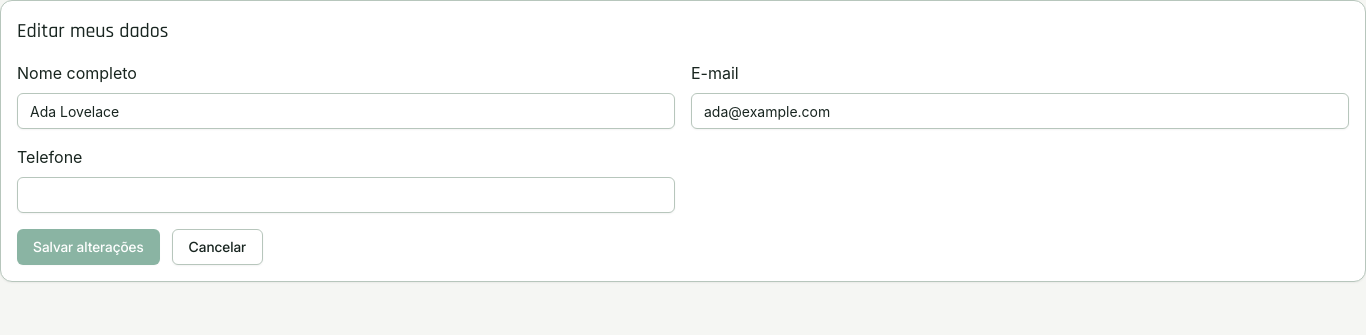
Test: ProfileContactForm › solicita senha apenas ao trocar e-mail e a limpa ao concluir
Check: the field labelled "Senha atual" is not shown
Replace the text in the field labelled "E-mail" with "ada.new@example.com" at (1020, 111), box [691,93,1349,129]
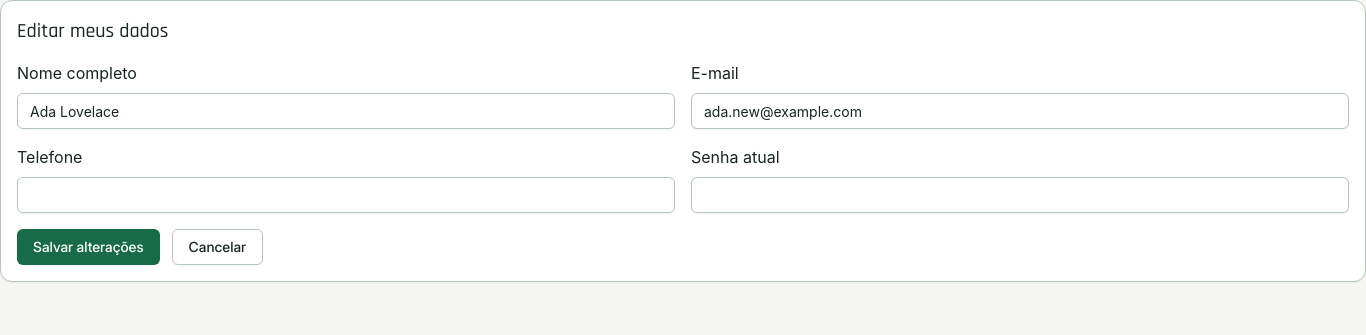
Type "transient-secret" into the password field labelled "Senha atual".
click(1020, 195); type("transient-secret")  # box [691,177,1349,213]
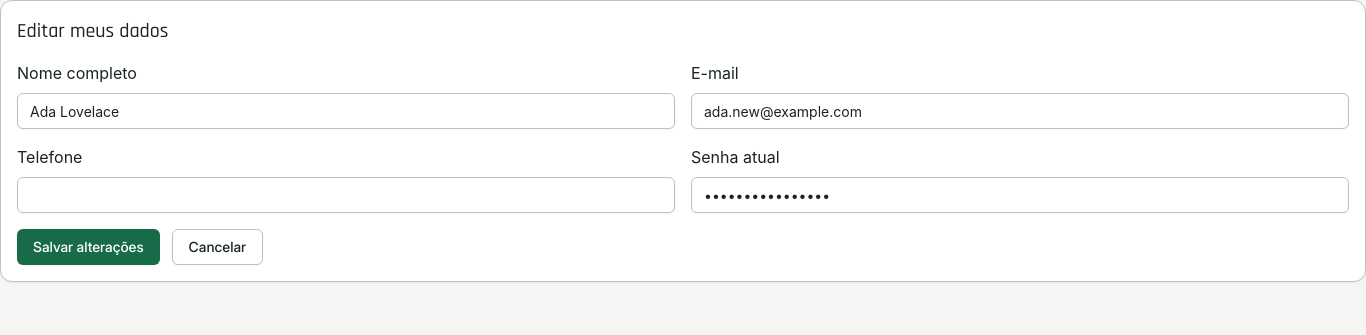
Type "555-0123" into the field labelled "Telefone".
click(346, 195); type("555-0123")  # box [17,177,675,213]
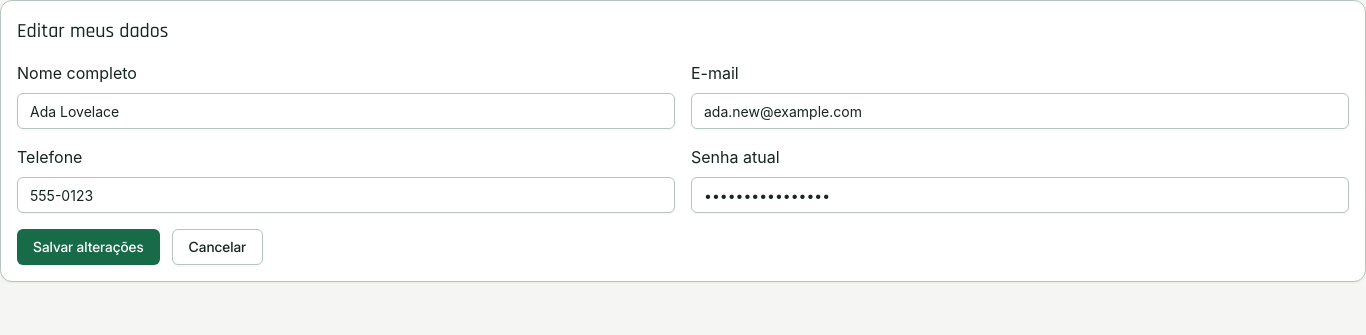
Click the button "Salvar alterações".
click(88, 247)  # box [17,229,160,265]
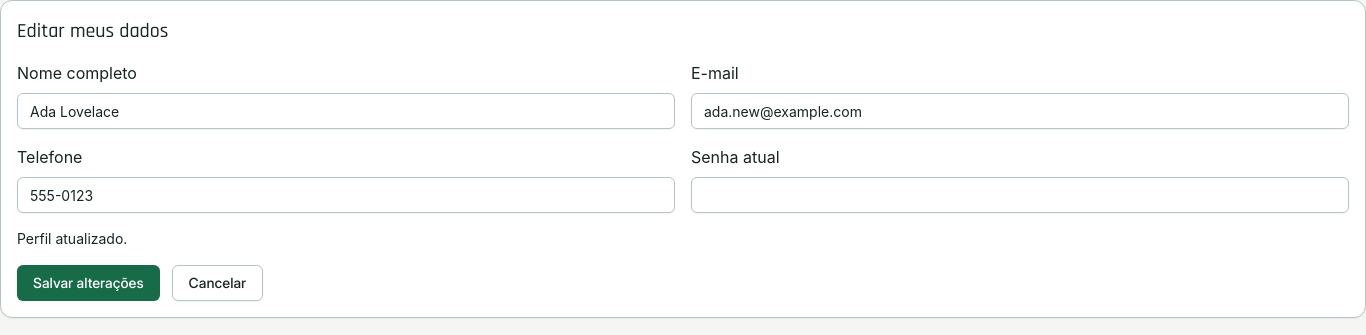
Check: the message reads "Perfil atualizado.", box [17,230,127,247]
Check: the password field labelled "Senha atual" is empty, box [691,177,1349,213]
